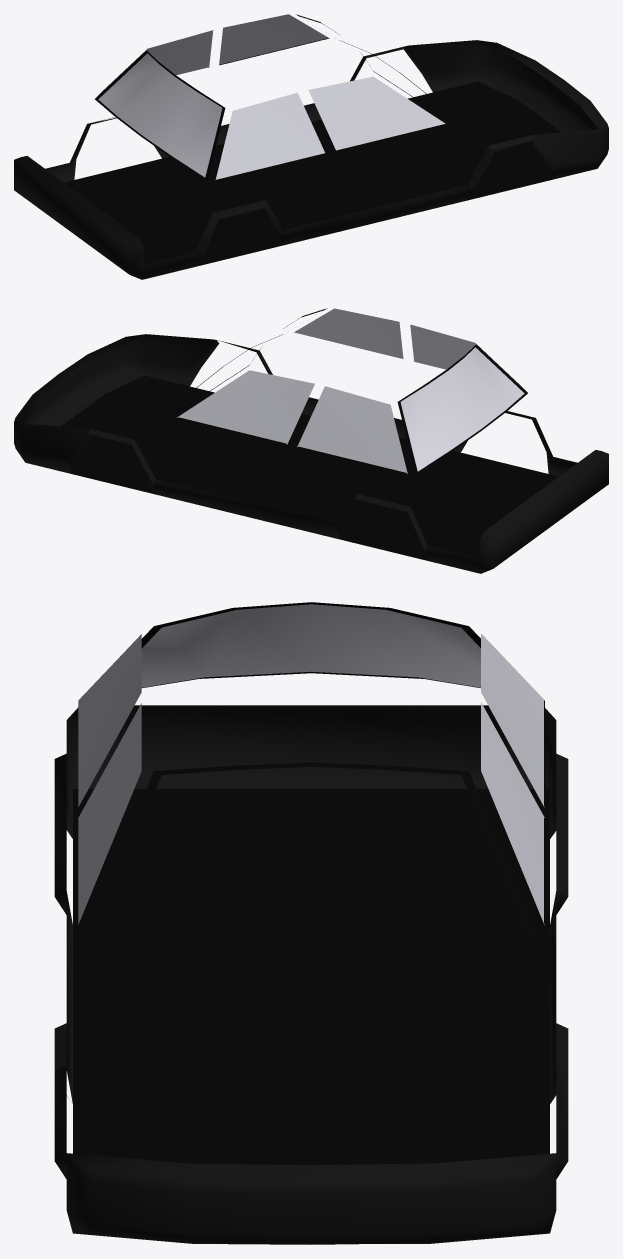
Rendered from P06-319157293_chasis.obj.
The picture shows the model from 3 angles, top to bottom: view 1: azimuth 30°, elevation 25°; view 2: azimuth 150°, elevation 25°; view 3: azimuth 270°, elevation 25°; orthographic projection. The views are drawn at different scales.
Visible parts, largest first — view 1: Car_Cube.008; view 2: Car_Cube.008; view 3: Car_Cube.008.
Boxes of the visible parts, left/top/right/bottom form: Car_Cube.008: left=14, top=14, right=608, bottom=279; Car_Cube.008: left=14, top=308, right=608, bottom=573; Car_Cube.008: left=54, top=602, right=568, bottom=1244.
Size of the model in its own units: 4.66 by 1.25 by 2.1.
